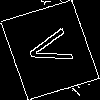V: (25, 24, 83, 71)
